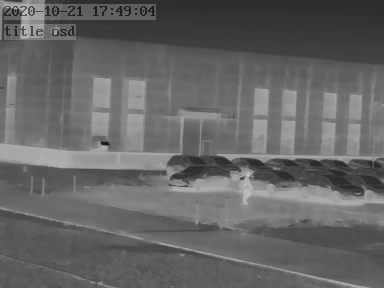person: (242, 171, 252, 206)
vehicle: (171, 165, 232, 192), (241, 168, 303, 192), (305, 173, 357, 200), (350, 173, 383, 200), (230, 154, 267, 171), (262, 155, 297, 170), (347, 156, 381, 171), (317, 156, 347, 170), (295, 155, 324, 169)
